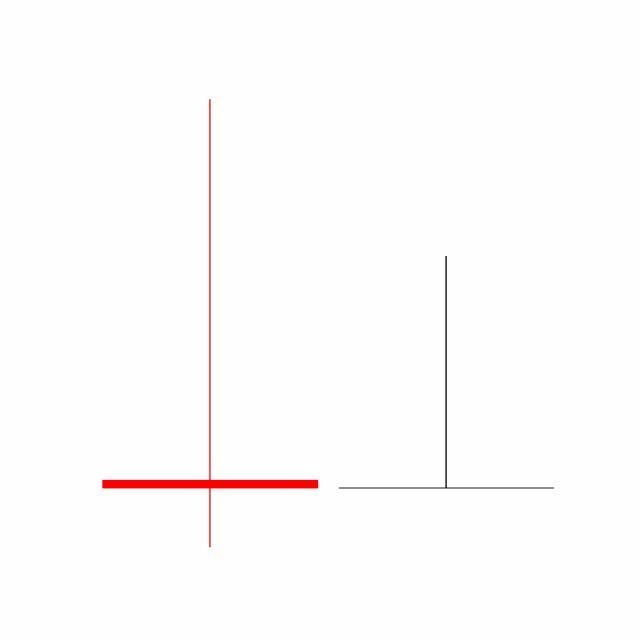Gravestone Doji: (328, 253, 566, 491)
